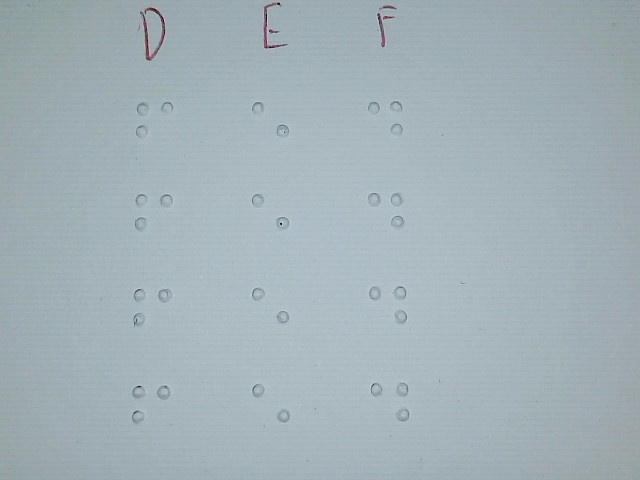D: (366, 88, 405, 153), (366, 178, 405, 243), (368, 271, 407, 336), (370, 370, 409, 435)
E: (250, 87, 291, 158), (250, 178, 291, 249), (250, 272, 291, 343), (250, 366, 291, 437)
F: (135, 90, 176, 161), (134, 181, 175, 252), (132, 276, 173, 347), (131, 373, 172, 444)
